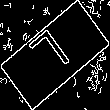L_SE: (30, 26, 80, 84)
